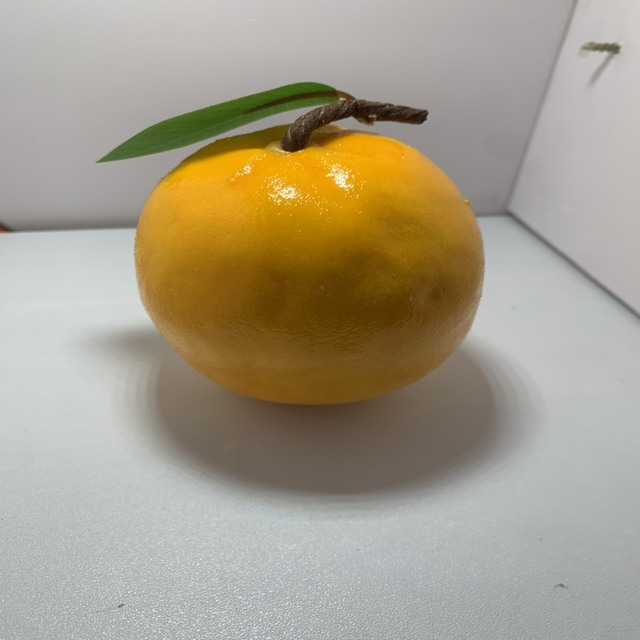Cam vang: (127, 83, 489, 414)
